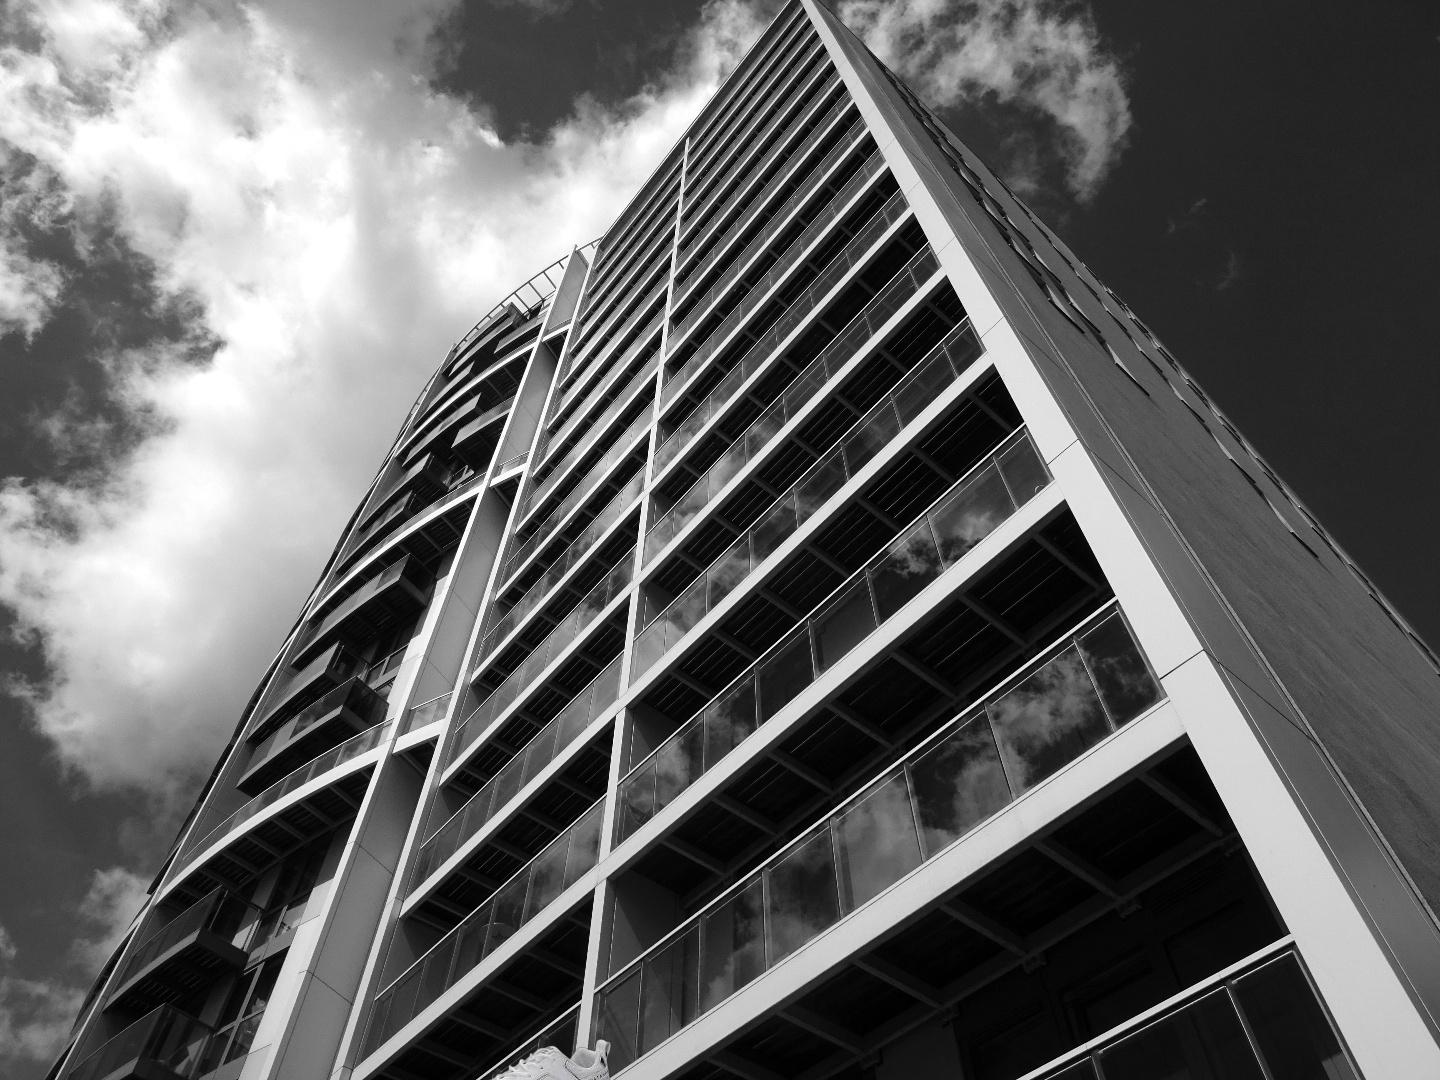shoes: (423, 1037, 626, 1080)
